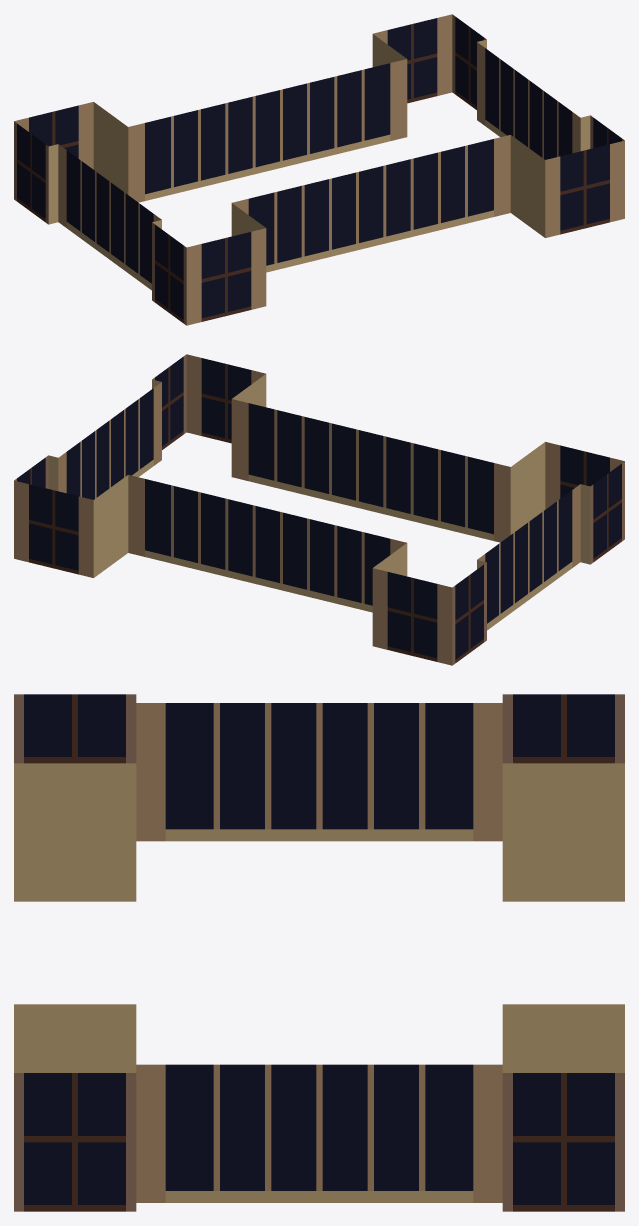
Rendered from TB_CITY_Skysc_K_BodyC_Brown.FBX.
3 renders of one model, top to bottom at view 1: azimuth 30°, elevation 25°; view 2: azimuth 150°, elevation 25°; view 3: azimuth 270°, elevation 25°, orthographic. The views are drawn at different scales.
Visible parts, largest first — view 1: TB_CITY_Skysc_K_BodyC_Brown; view 2: TB_CITY_Skysc_K_BodyC_Brown; view 3: TB_CITY_Skysc_K_BodyC_Brown.
Boxes of the visible parts, x1,y1,x2,y2 form: TB_CITY_Skysc_K_BodyC_Brown: [14, 14, 624, 325]; TB_CITY_Skysc_K_BodyC_Brown: [14, 354, 624, 665]; TB_CITY_Skysc_K_BodyC_Brown: [14, 694, 624, 1211].
Size of the model in its own units: 44 by 7.5 by 30.
